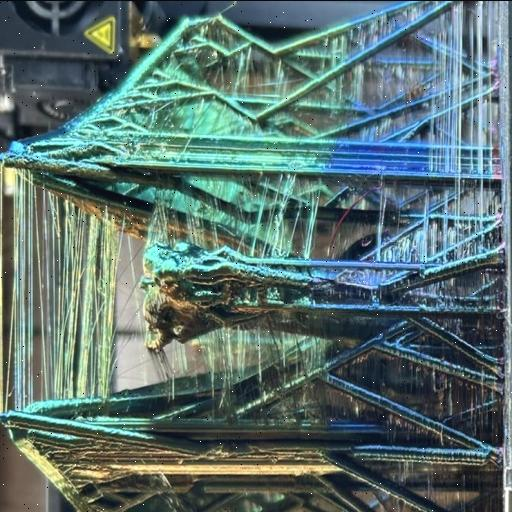stringing: (8, 177, 114, 421), (240, 175, 310, 257), (442, 16, 470, 170), (208, 319, 258, 403)
